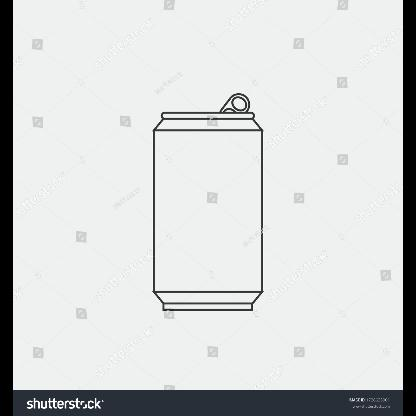Lid_Open: (210, 93, 262, 128)
Tin_Can: (147, 81, 273, 323)
